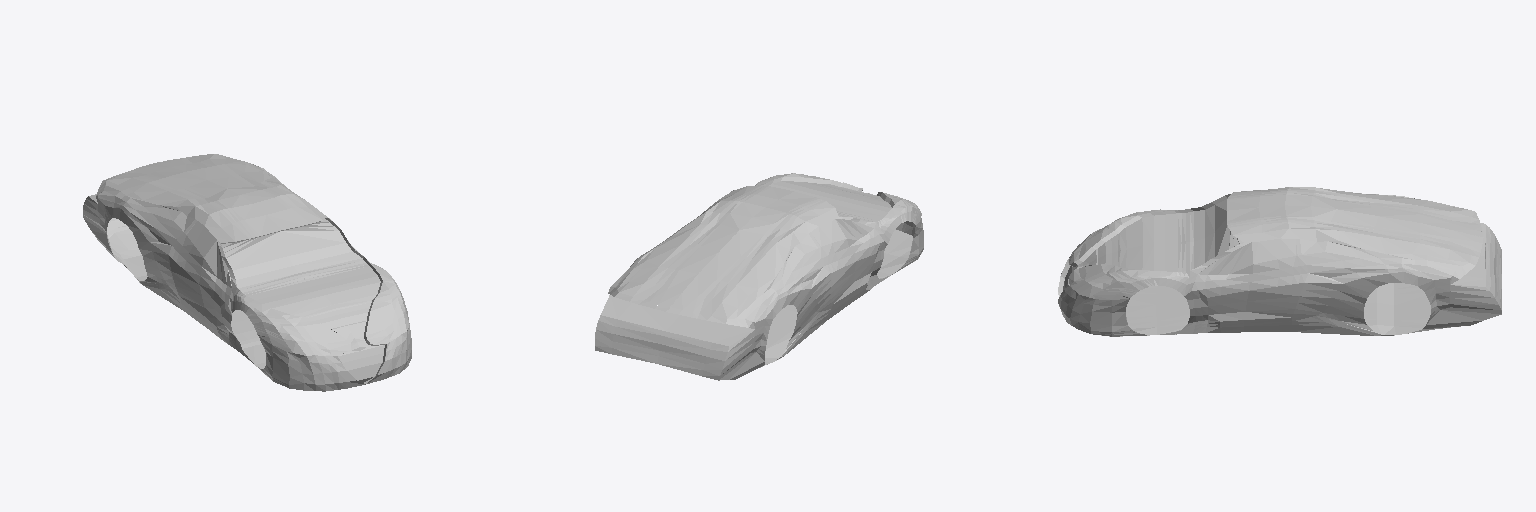
File: Futurista.obj
3 views of the same model, side by side, from view 1: azimuth 30°, elevation 25°; view 2: azimuth 150°, elevation 25°; view 3: azimuth 270°, elevation 25° (orthographic).
Parts seen in each view (by area): view 1: polySurface4_polySurface7; view 2: polySurface4_polySurface7; view 3: polySurface4_polySurface7.
Part boxes in pixels (x1,y1,x2,y2): polySurface4_polySurface7: (83,154,411,391); polySurface4_polySurface7: (595,173,923,380); polySurface4_polySurface7: (1058,187,1501,336).
Bounding box in the file's own units: 1.72 × 1.11 × 4.39.